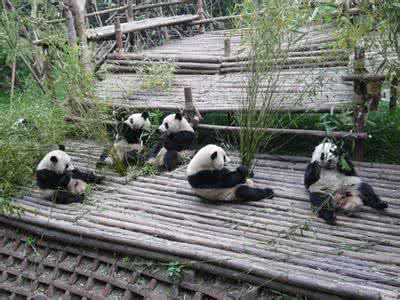panda: (297, 137, 388, 223), (186, 140, 275, 206), (31, 144, 105, 214), (154, 114, 196, 176), (113, 109, 152, 173)
